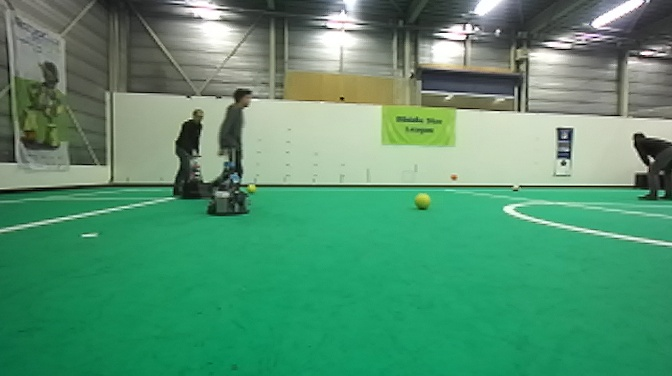ball: (411, 192, 432, 211), (244, 181, 258, 194), (509, 181, 521, 194), (448, 172, 460, 183)
human: (207, 87, 253, 206), (630, 129, 672, 202), (174, 108, 206, 198)
robot: (203, 143, 250, 217), (177, 153, 215, 201)
